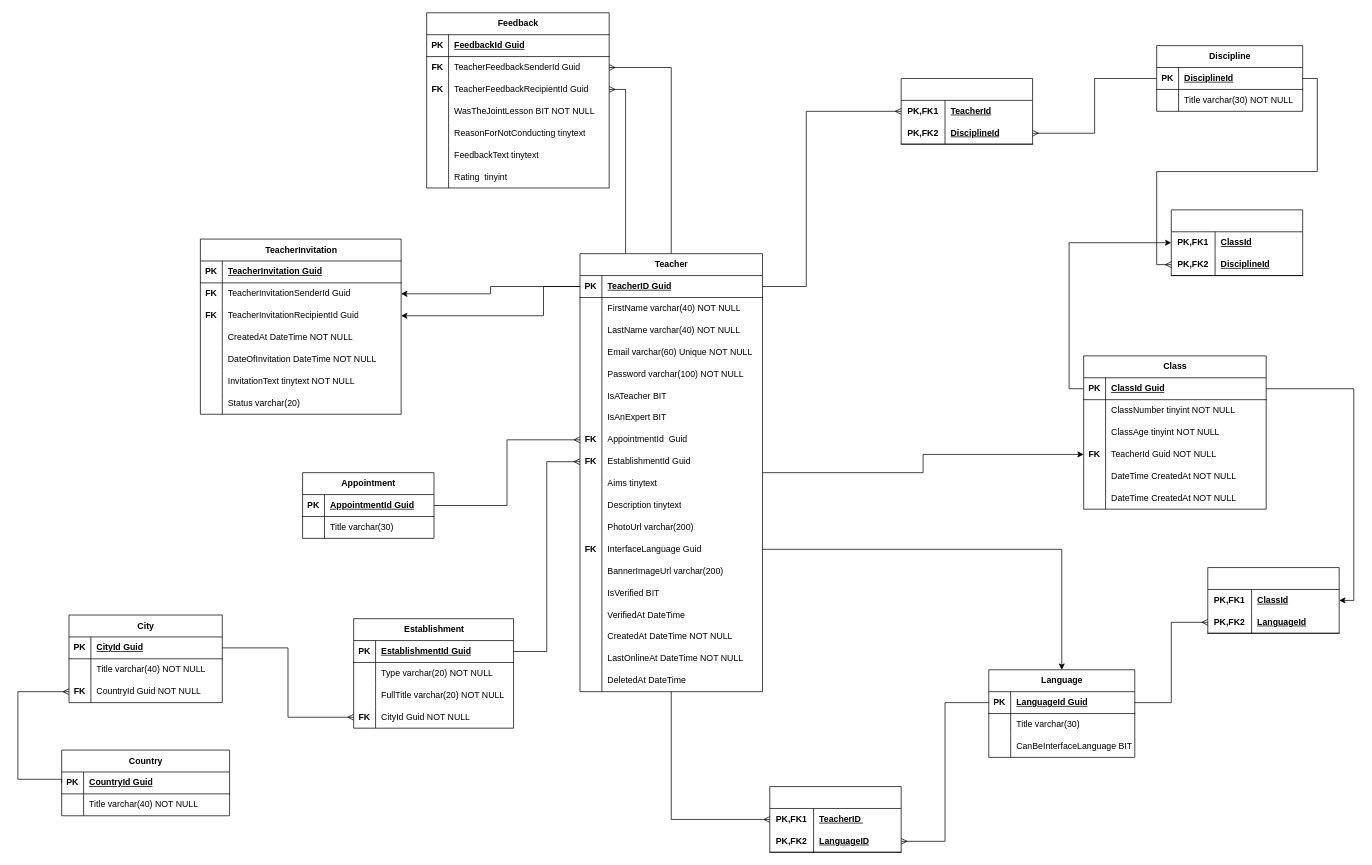
The diagram is 1372 pixels wide and 865 high, and some of its shapes have lost their labels. Here are the shapes that lost their labels. From the top down, the box of each, then its label:
(900, 78, 1033, 144): TeacherDiscipline
(1171, 209, 1303, 276): ClassDiscipline
(1207, 567, 1339, 633): ClassLanguage
(769, 786, 901, 852): TeacherLanguage
